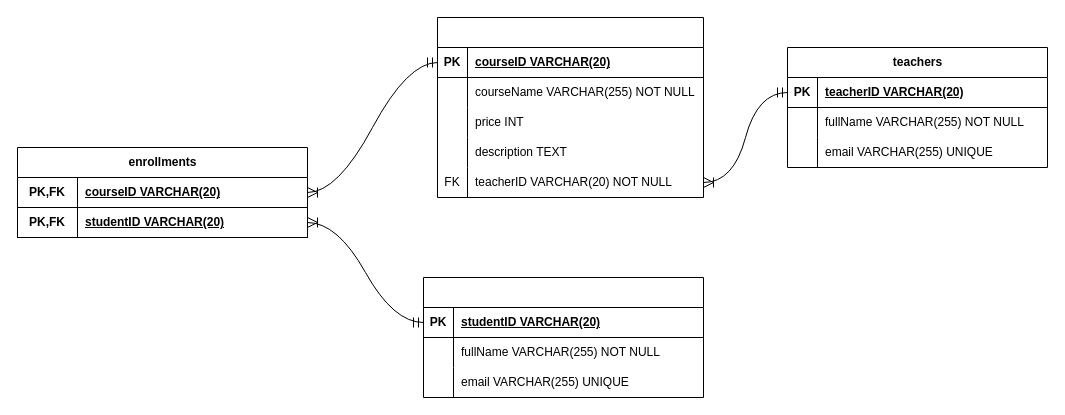
Image size: 1065x415. Some labels were removed from this diagram. Here are the shapes that lost their labels. From the top down, the box of each, then its label:
(436, 16, 704, 198): courses
(422, 276, 704, 398): students
